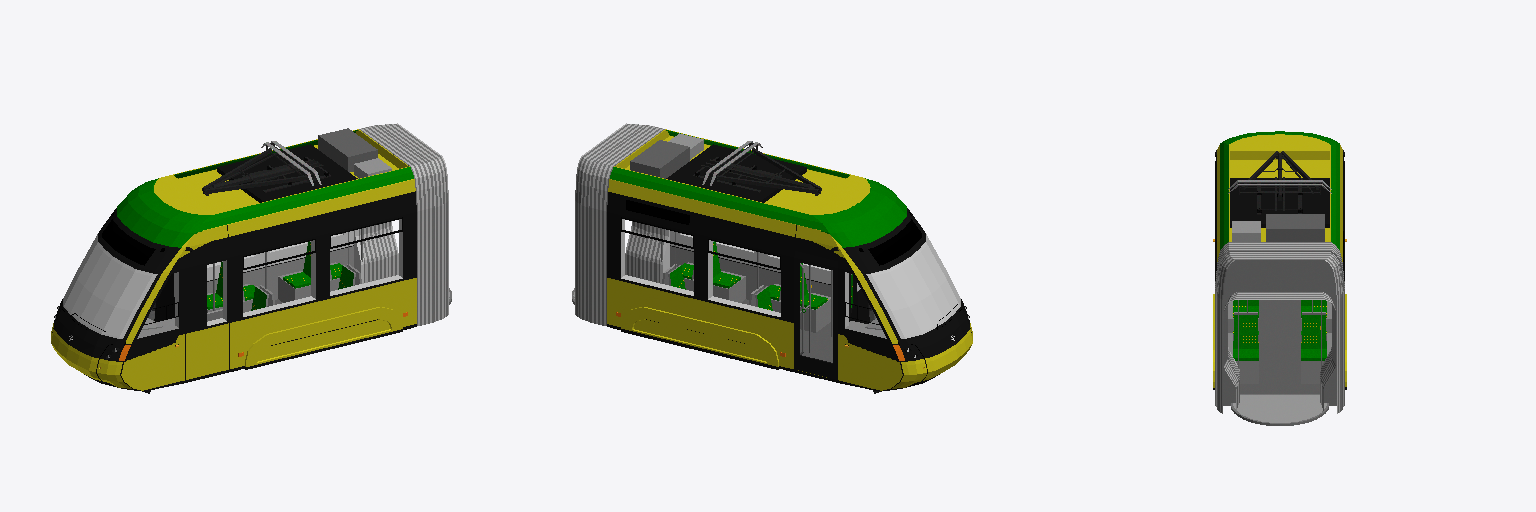
3 renders of one model, left to right at view 1: azimuth 30°, elevation 25°; view 2: azimuth 150°, elevation 25°; view 3: azimuth 270°, elevation 25°, orthographic.
Parts seen in each view (by area): view 1: SHELL, GAR, GLASS, SHELL_7, SHELL_INTERIOR, GAR_INTERIOR, SEATS_INTERIOR, WIDGET_2, SHELL_2_INTERIOR, SHELL_5_INTERIOR, ENGINE_BLOCK, WIDGET_1_CG_PANT; view 2: SHELL, GAR, GLASS, SHELL_INTERIOR, SHELL_7, EXTERNAL_DOOR_2_CG_ELECTRON_GLOBAL, GAR_INTERIOR, SHELL_2_INTERIOR, SEATS_INTERIOR, SHELL_5_INTERIOR, WIDGET_2, TUR_INTERIOR (+3 smaller); view 3: GAR, SHELL, SHELL_7, SHELL_INTERIOR, RING_INTERIOR, SEATS_INTERIOR, GAR_INTERIOR, SHELL_2_INTERIOR, WIDGET_1_CG_PANT.
Part boxes in pixels (left/top/right/bottom): SHELL: left=51, top=129, right=416, bottom=390; GAR: left=359, top=123, right=448, bottom=325; GLASS: left=63, top=234, right=157, bottom=338; SHELL_7: left=217, top=128, right=391, bottom=202; SHELL_INTERIOR: left=207, top=219, right=402, bottom=325; GAR_INTERIOR: left=359, top=221, right=398, bottom=282; SEATS_INTERIOR: left=207, top=241, right=361, bottom=321; WIDGET_2: left=202, top=148, right=306, bottom=195; SHELL_2_INTERIOR: left=207, top=262, right=339, bottom=312; SHELL_5_INTERIOR: left=137, top=272, right=178, bottom=338; ENGINE_BLOCK: left=242, top=157, right=330, bottom=192; WIDGET_1_CG_PANT: left=261, top=141, right=321, bottom=185; SHELL: left=607, top=129, right=972, bottom=390; GAR: left=575, top=123, right=664, bottom=325; GLASS: left=866, top=234, right=960, bottom=338; SHELL_INTERIOR: left=621, top=219, right=851, bottom=362; SHELL_7: left=630, top=133, right=806, bottom=202; EXTERNAL_DOOR_2_CG_ELECTRON_GLOBAL: left=794, top=251, right=837, bottom=379; GAR_INTERIOR: left=625, top=221, right=664, bottom=282; SHELL_2_INTERIOR: left=684, top=262, right=830, bottom=332; SEATS_INTERIOR: left=662, top=241, right=852, bottom=310; SHELL_5_INTERIOR: left=845, top=272, right=886, bottom=338; WIDGET_2: left=717, top=148, right=821, bottom=195; TUR_INTERIOR: left=661, top=228, right=832, bottom=354; GAR: left=1215, top=242, right=1344, bottom=413; SHELL: left=1213, top=131, right=1346, bottom=389; SHELL_7: left=1230, top=178, right=1329, bottom=241; SHELL_INTERIOR: left=1240, top=300, right=1319, bottom=392; RING_INTERIOR: left=1231, top=394, right=1328, bottom=425; SEATS_INTERIOR: left=1233, top=300, right=1326, bottom=360; GAR_INTERIOR: left=1224, top=292, right=1335, bottom=410; SHELL_2_INTERIOR: left=1228, top=301, right=1331, bottom=383; WIDGET_1_CG_PANT: left=1228, top=180, right=1331, bottom=194.
Size of the model in its own units: 8.09 by 3.68 by 2.46.
15 materials, 13 textured.